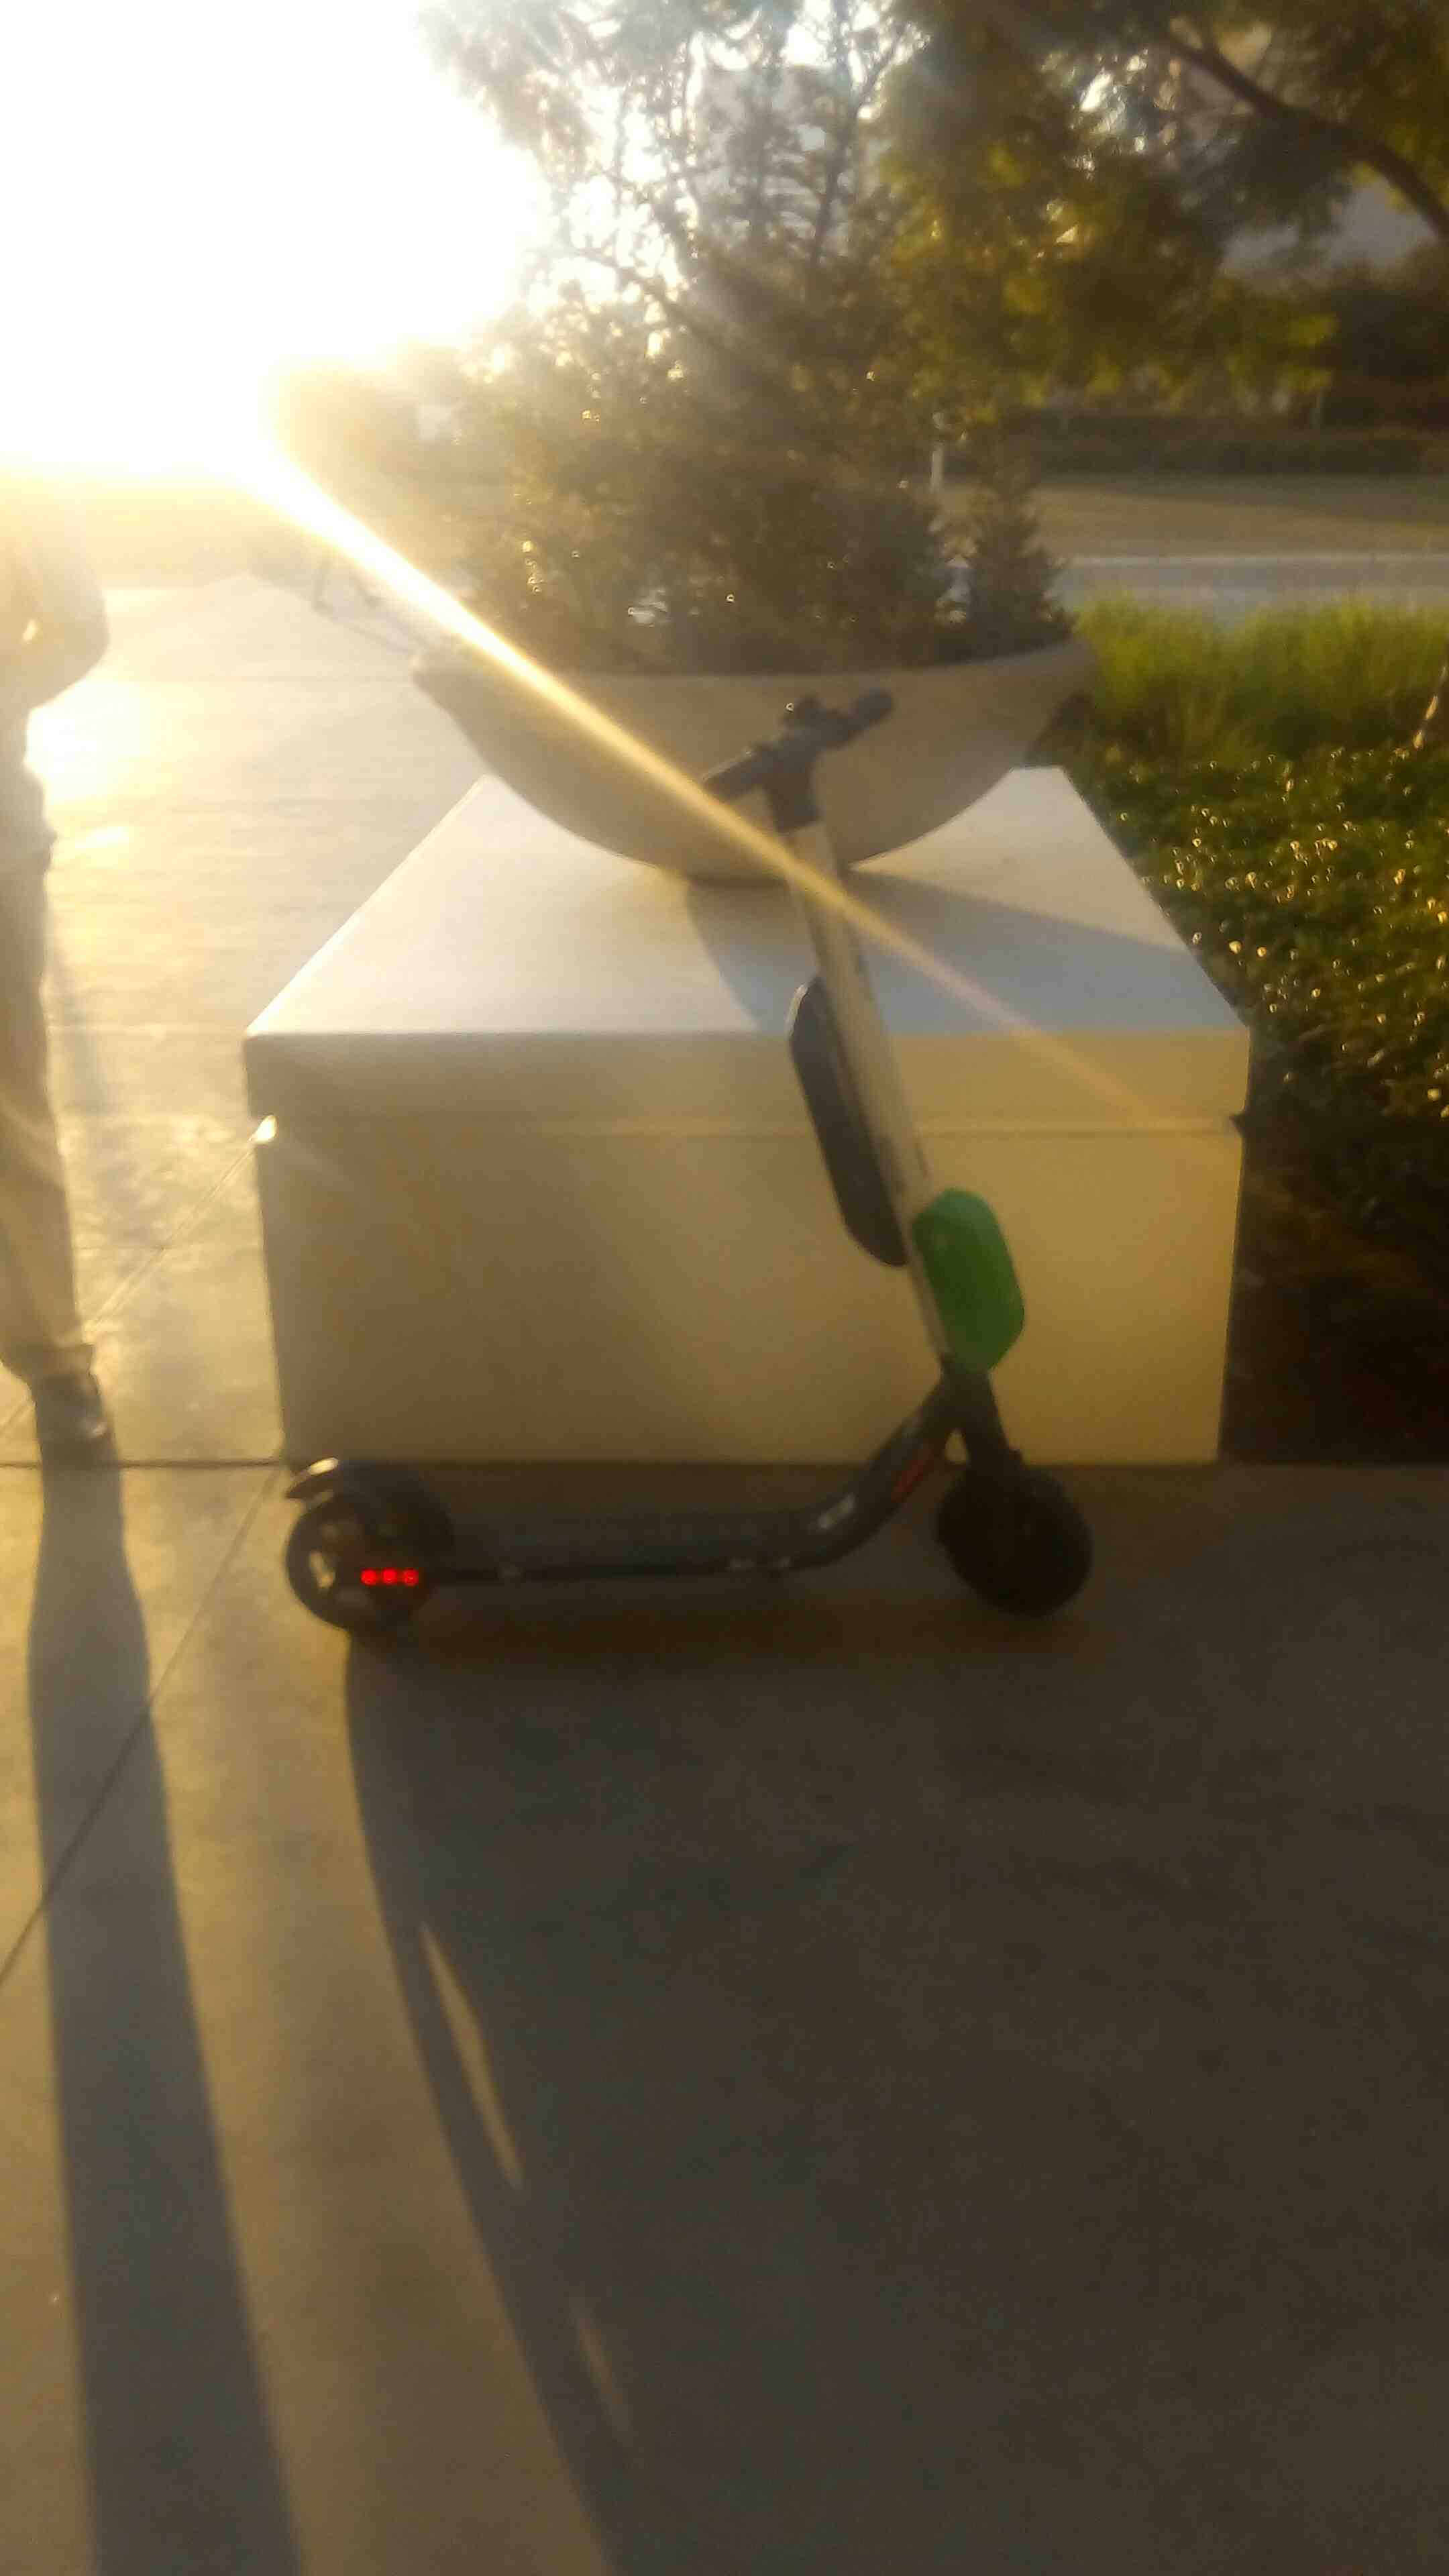scooter: (207, 633, 1159, 1619)
